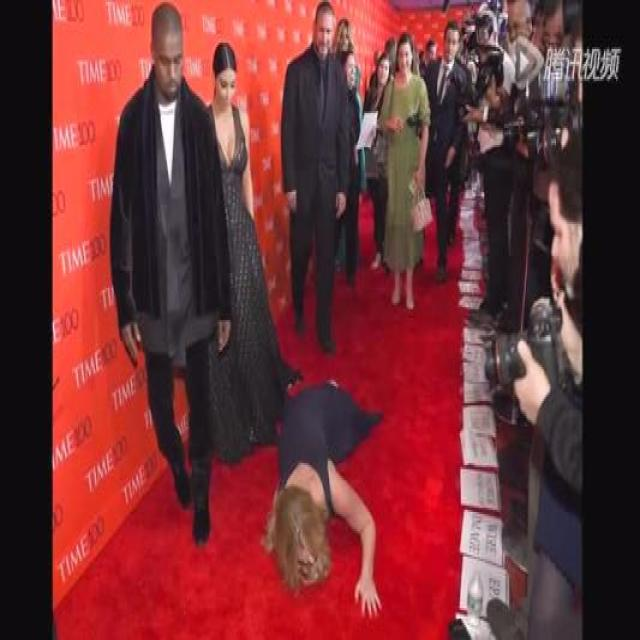10-: (105, 2, 581, 629)
down: (258, 365, 392, 623)
